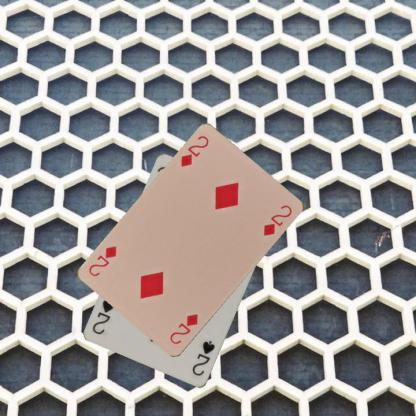2d: (167, 311, 200, 346), (178, 133, 210, 169)
2s: (190, 338, 216, 378)
